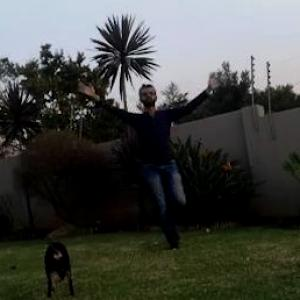takeoff: (92, 83, 213, 230)
